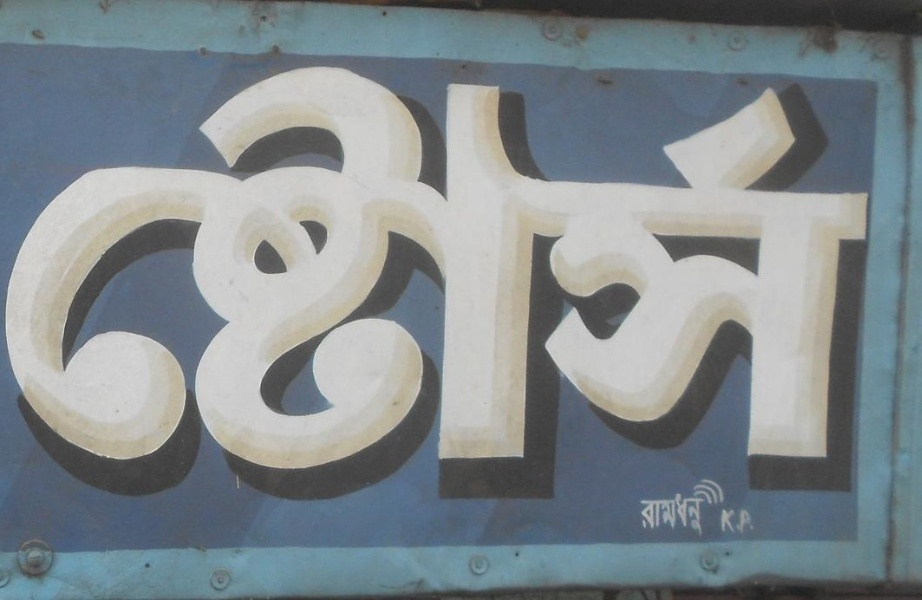text: (17, 47, 32, 500), (33, 47, 48, 500), (49, 47, 64, 500), (65, 47, 80, 500), (81, 47, 96, 500), (97, 47, 112, 500), (113, 47, 128, 500), (129, 47, 144, 500), (145, 47, 160, 500), (161, 47, 176, 500), (177, 47, 192, 500), (193, 47, 208, 500), (209, 47, 224, 500), (225, 47, 240, 500), (241, 47, 256, 500), (257, 47, 272, 500), (273, 47, 288, 500), (289, 47, 304, 500), (305, 47, 320, 500), (321, 47, 336, 500), (337, 47, 352, 500), (353, 47, 368, 500), (369, 47, 384, 500), (385, 47, 400, 500), (401, 47, 416, 500), (417, 47, 432, 500), (433, 47, 448, 500), (449, 47, 464, 500), (465, 47, 480, 500), (481, 47, 496, 500), (497, 47, 512, 500), (513, 47, 528, 500), (529, 47, 544, 500), (545, 47, 560, 500), (561, 47, 576, 500), (577, 47, 592, 500), (593, 47, 608, 500), (609, 47, 624, 500), (625, 47, 640, 500), (641, 47, 656, 500), (657, 47, 672, 500), (673, 47, 688, 500), (689, 47, 704, 500), (705, 47, 720, 500), (721, 47, 736, 500), (737, 47, 752, 500), (753, 47, 768, 500), (769, 47, 784, 500), (785, 47, 800, 500), (801, 47, 816, 500), (817, 47, 832, 500), (833, 47, 848, 500), (849, 47, 864, 500), (2, 47, 16, 500), (865, 47, 870, 500), (641, 496, 656, 535), (657, 496, 672, 535), (673, 496, 688, 535), (689, 496, 703, 535), (737, 509, 753, 533), (722, 509, 736, 533)
